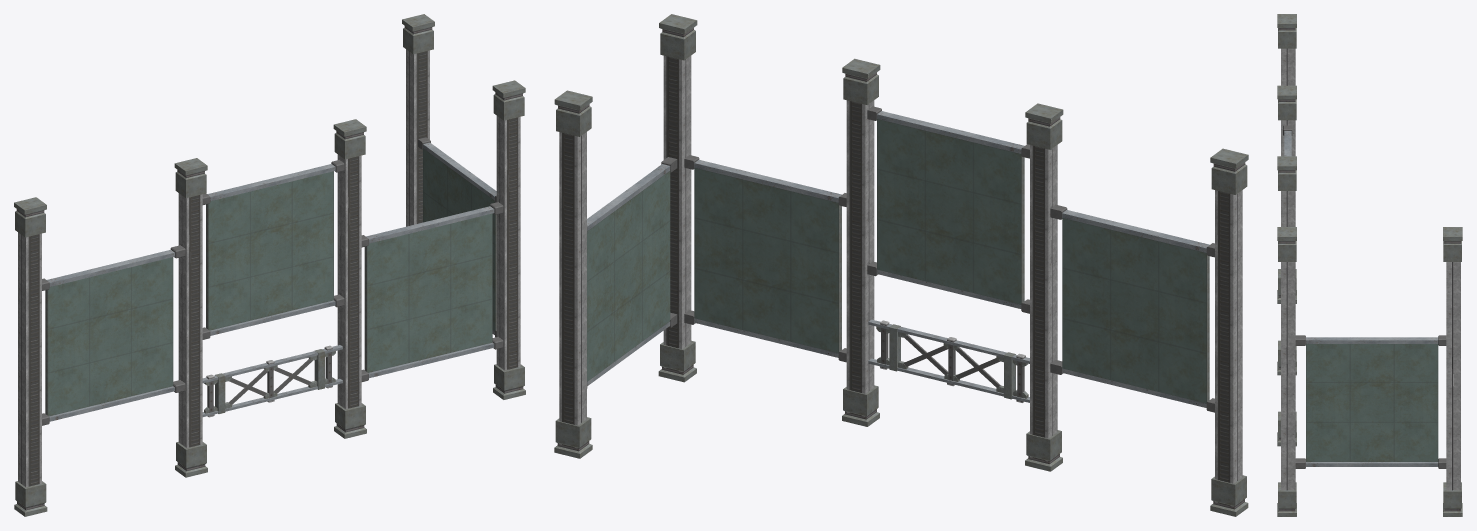
The model's file is Ob_ScafWallCorner3_RC.fbx.
3 renders of one model, left to right at view 1: azimuth 30°, elevation 25°; view 2: azimuth 150°, elevation 25°; view 3: azimuth 270°, elevation 25°, orthographic. The views are drawn at different scales.
Visible parts, largest first — view 1: Ob_ScafWallCorner3_RC; view 2: Ob_ScafWallCorner3_RC; view 3: Ob_ScafWallCorner3_RC.
Boxes of the visible parts, <box> form: Ob_ScafWallCorner3_RC: <box>14,14,525,516</box>; Ob_ScafWallCorner3_RC: <box>554,14,1248,516</box>; Ob_ScafWallCorner3_RC: <box>1277,14,1462,516</box>.
Size of the model in its own units: 12326 by 7205 by 4320.
